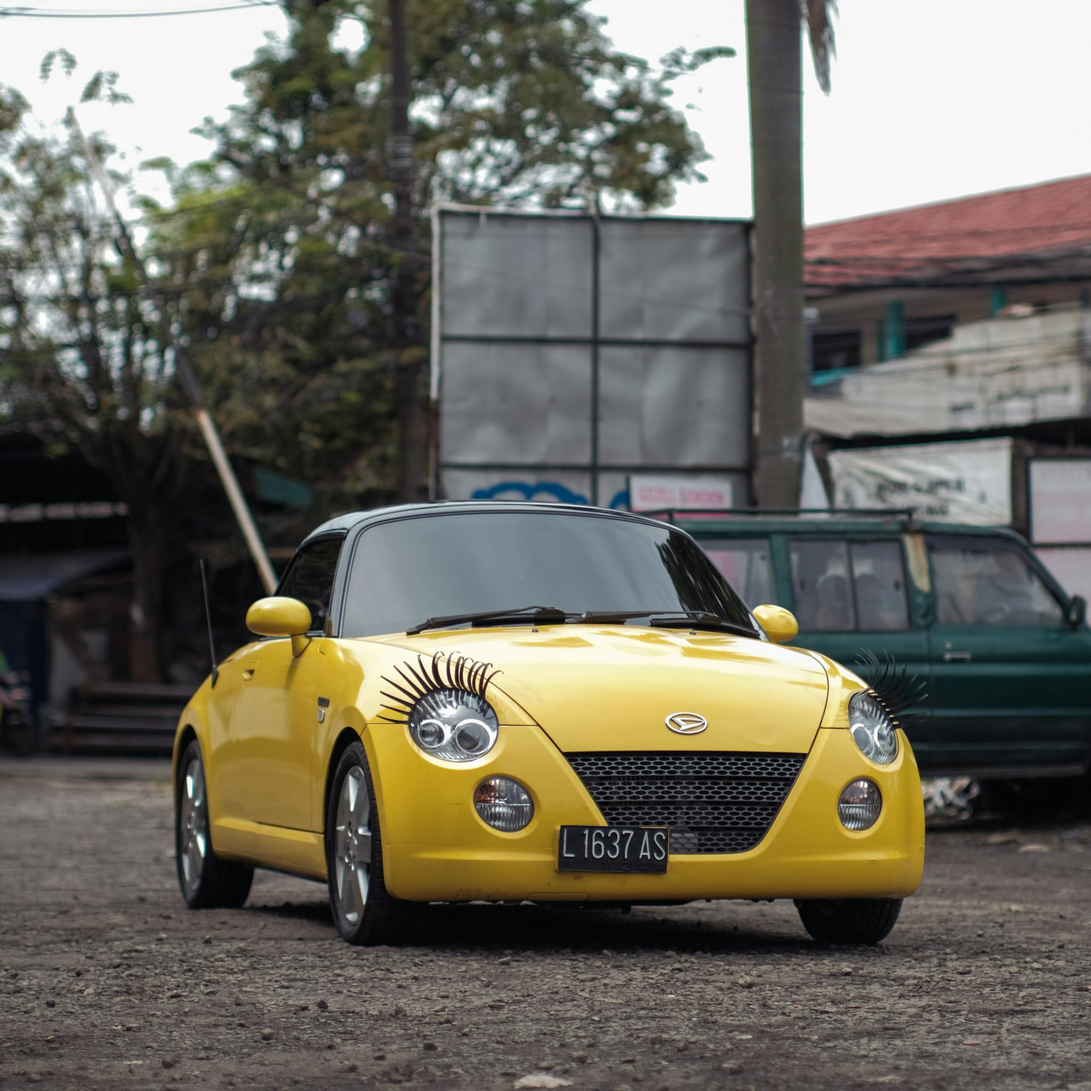car: (161, 501, 932, 958)
